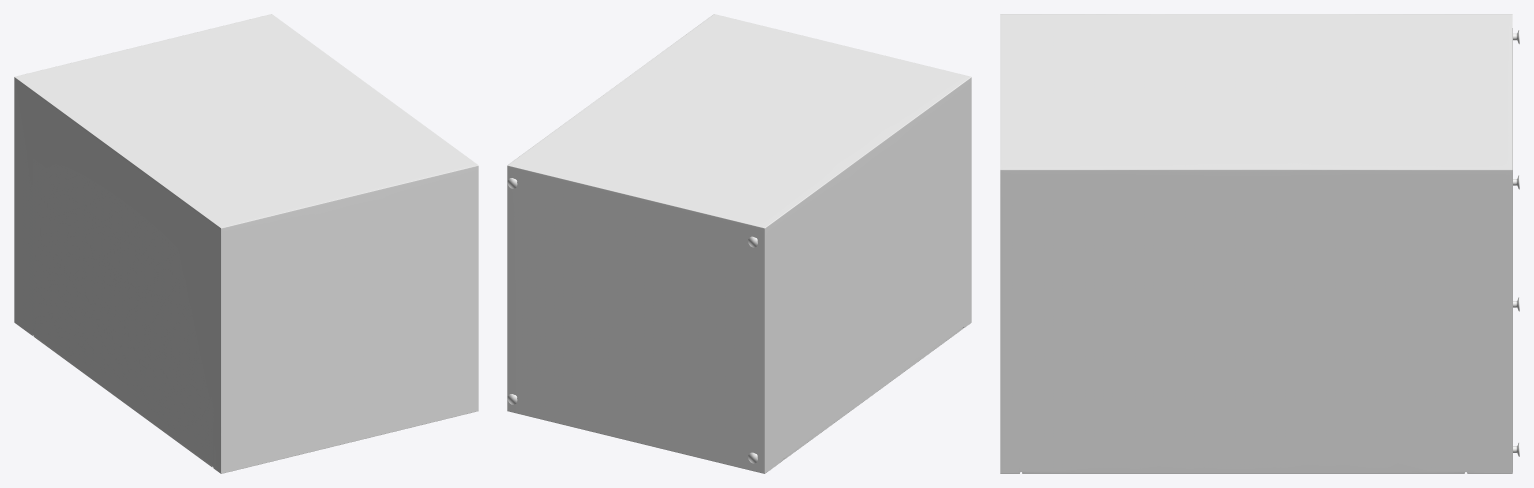
Rendered from Hotpoint+Dishwasher.obj.
3 views of the same model, side by side, from view 1: azimuth 30°, elevation 25°; view 2: azimuth 150°, elevation 25°; view 3: azimuth 270°, elevation 25° (orthographic). The views are drawn at different scales.
Parts seen in each view (by area): view 1: DISHWASHER; view 2: DISHWASHER; view 3: DISHWASHER.
Part boxes in pixels (x1=…): DISHWASHER: x1=14, y1=14, x2=478, y2=473; DISHWASHER: x1=507, y1=14, x2=971, y2=473; DISHWASHER: x1=1000, y1=14, x2=1512, y2=473.
Bounding box in the file's own units: 2.38 × 2.17 × 3.36.
